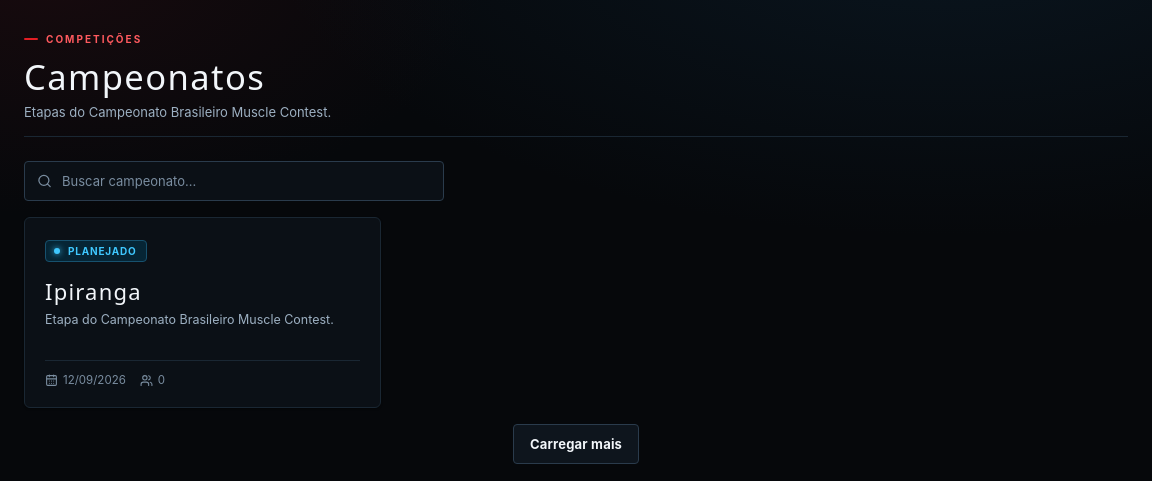
Test: tela de Campeonatos › oferece "Carregar mais" quando o servidor diz que há mais, e traz as etapas seguintes
This screenshot has width=1152, height=481.
Expected: the heading "Ipiranga" is shown, 45,276 -> 142,306
Expected: the text "Mercosul" is not shown
Click the button "Carregar mais" at coordinates (576, 444), box 513,424 -> 639,464
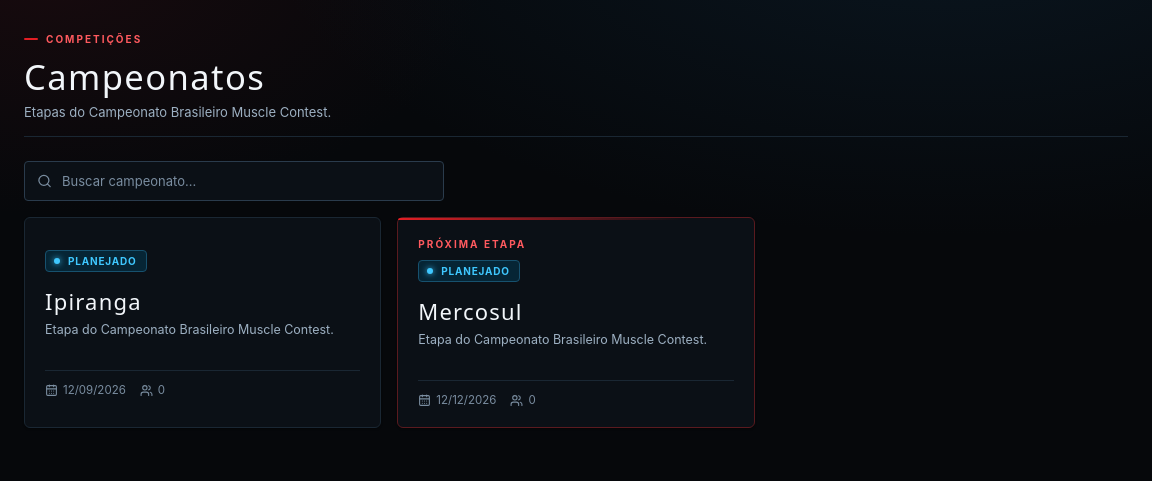
Expected: the heading "Ipiranga" is shown, 45,286 -> 142,316
Expected: the heading "Mercosul" is shown, 418,296 -> 523,326
